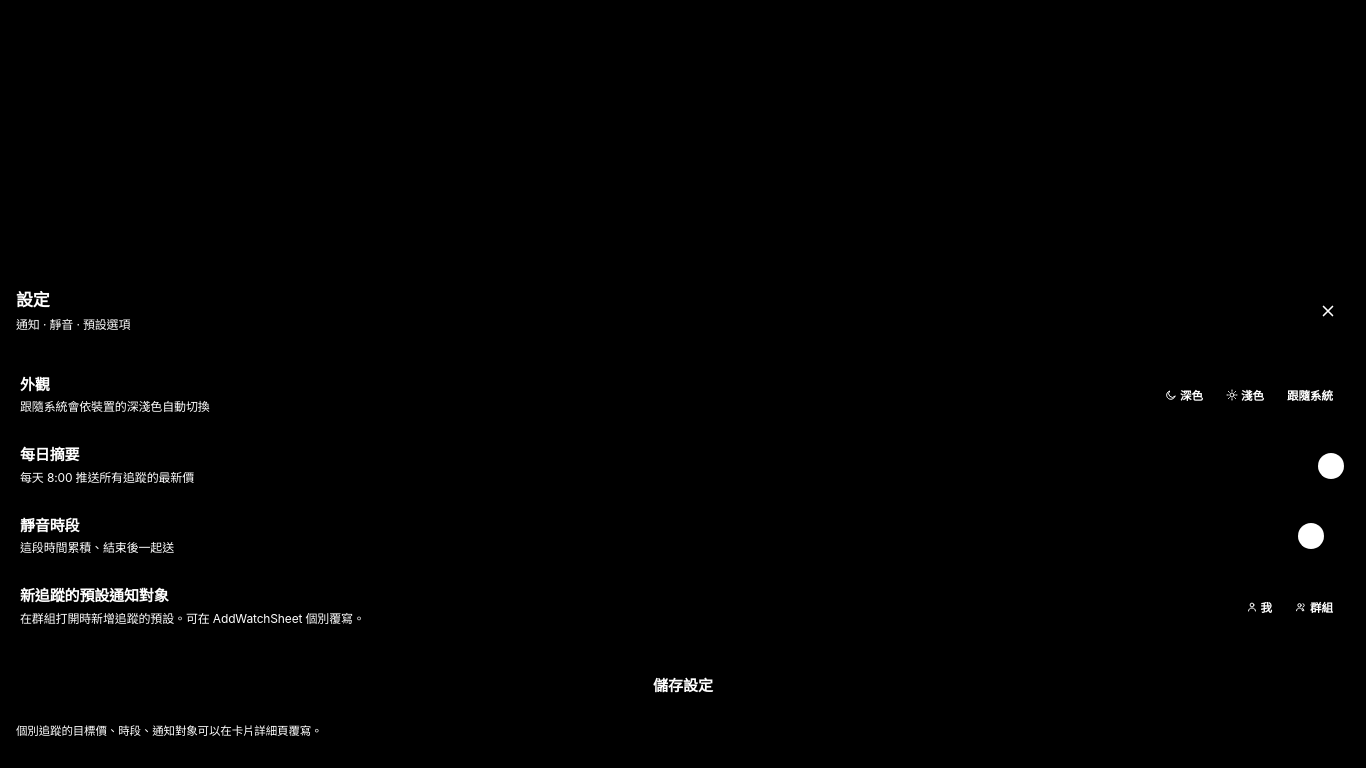
Test: SettingsSheet › 儲存錯誤 → 顯示 error
The width and height of the screenshot is (1366, 768).
Step 1. Click the button "儲存設定" → (683, 684), box [16, 660, 1350, 709]
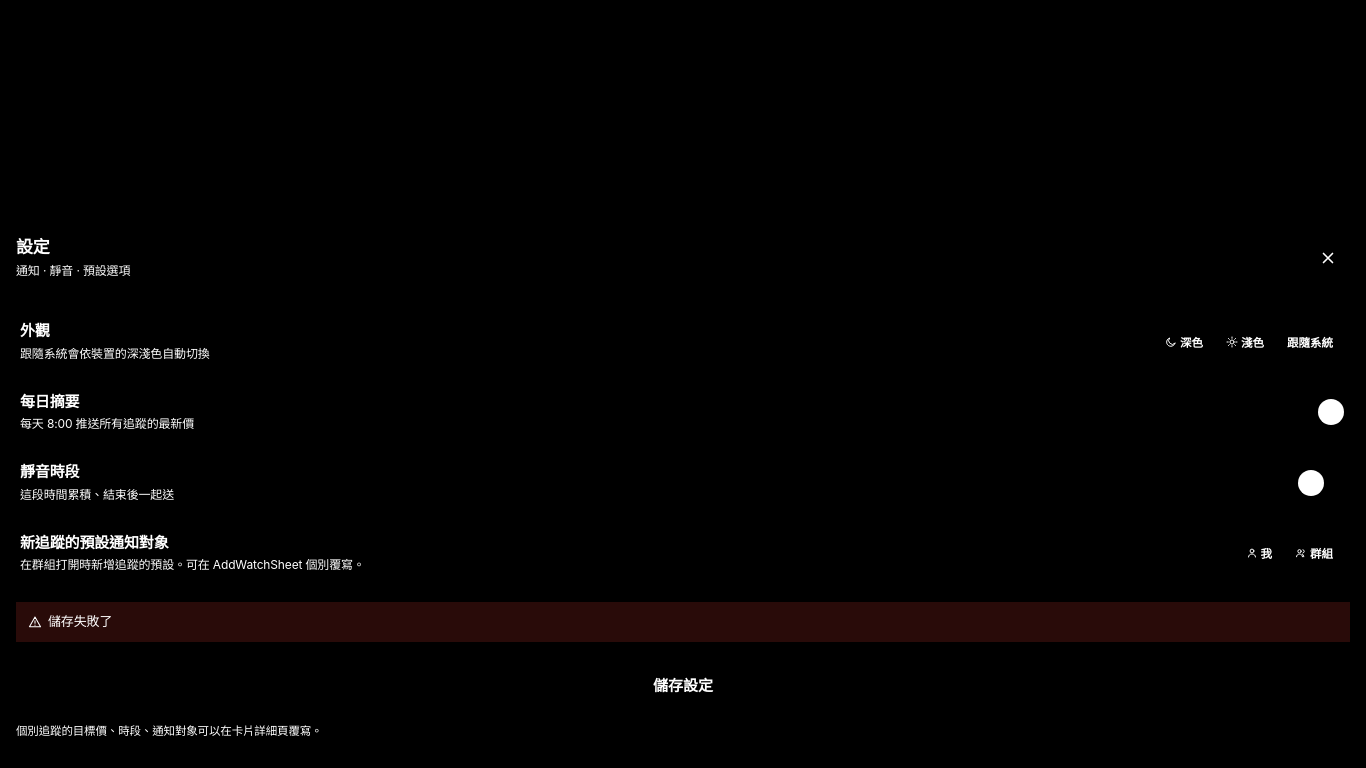
expect the text "儲存失敗了" is shown: met, box [48, 612, 112, 632]
